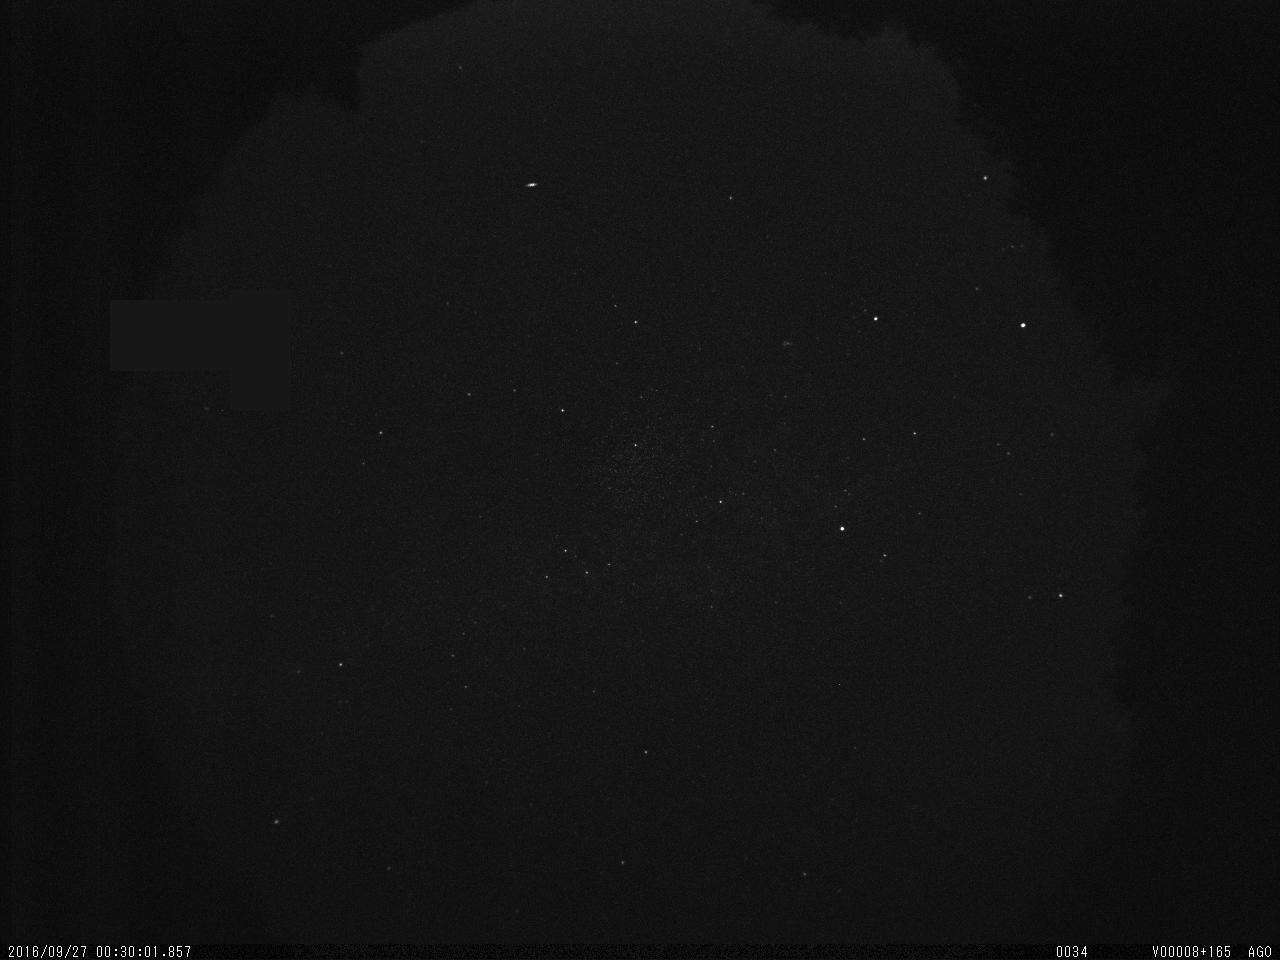meteor: (521, 175, 541, 196)
